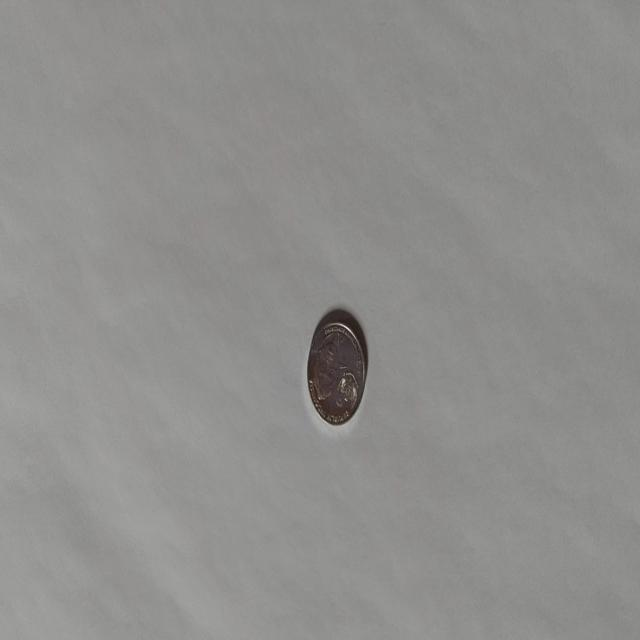dua ratus rupiah: (306, 310, 366, 427)
